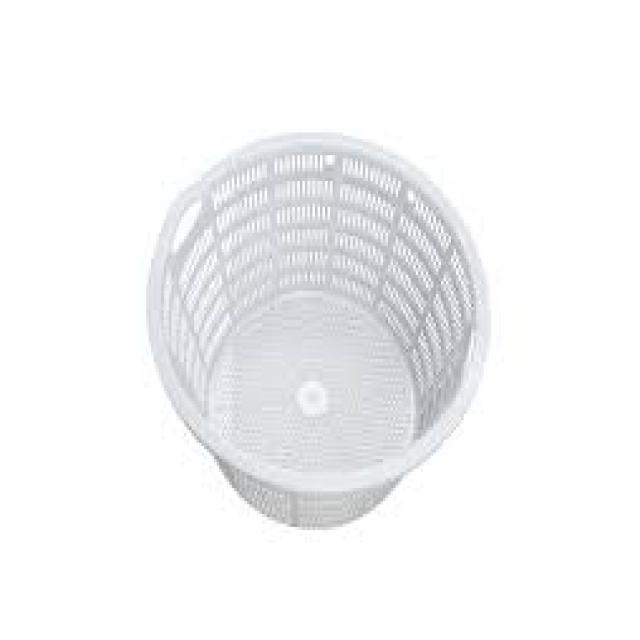basket: (71, 68, 570, 571)
